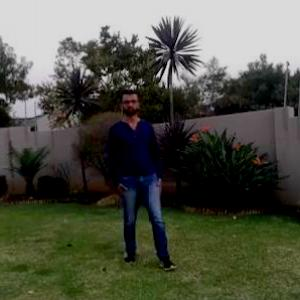follow: (113, 90, 158, 242)
